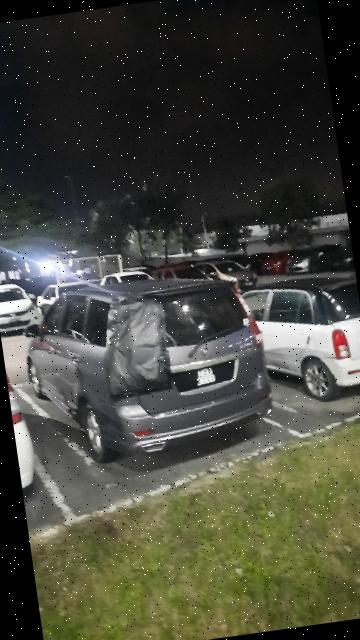License_Plate: (169, 360, 242, 394)
car: (18, 267, 281, 471), (232, 268, 360, 414), (1, 278, 40, 339)
